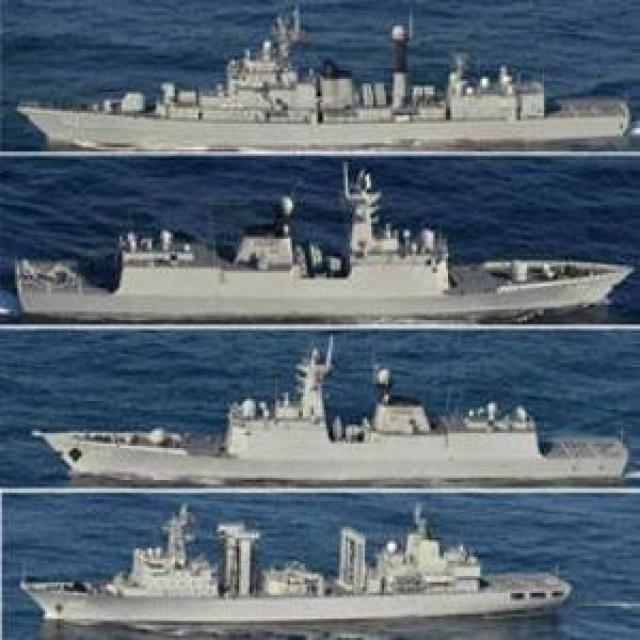navalvessels: (6, 164, 630, 324), (18, 332, 624, 490), (16, 6, 622, 154), (9, 496, 575, 630)
